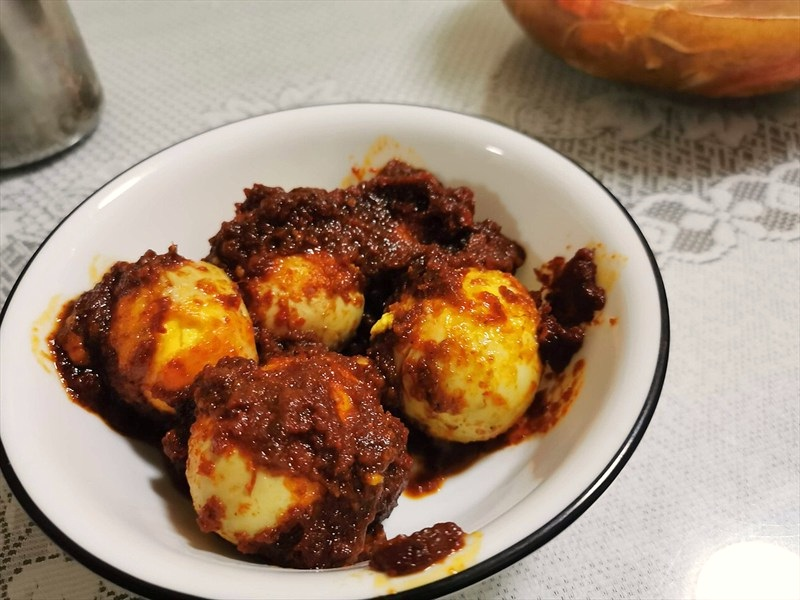Telur Balado: (77, 174, 618, 571)
